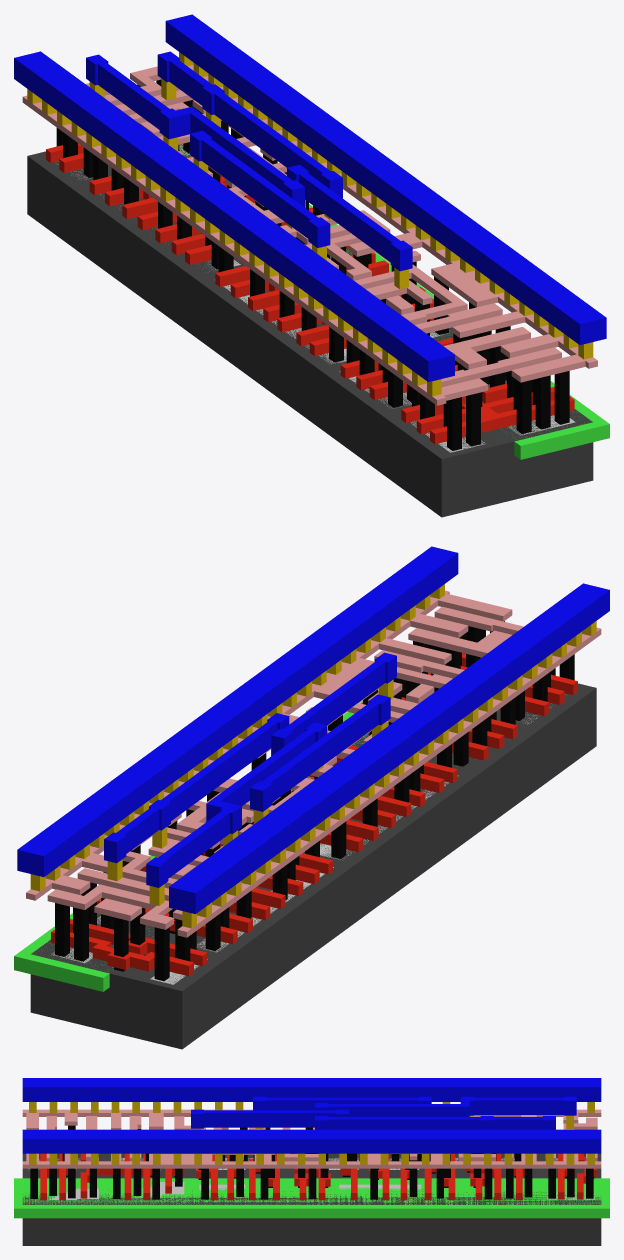
The model's file is sky130_fd_sc_hd__dfbbn_2.obj.
The picture shows the model from 3 angles, top to bottom: view 1: azimuth 30°, elevation 25°; view 2: azimuth 150°, elevation 25°; view 3: azimuth 270°, elevation 25°; orthographic projection. The views are drawn at different scales.
Visible parts, largest first — view 1: metal1, subs, li, licon, poly, mcon, nwell, diff; view 2: metal1, subs, li, licon, poly, mcon, nwell, diff; view 3: metal1, subs, nwell, li, poly, licon, mcon, tap.
Part boxes in pixels (bbox=[...]): metal1: bbox=[14, 14, 606, 381]; subs: bbox=[27, 144, 593, 517]; li: bbox=[22, 65, 597, 405]; licon: bbox=[56, 79, 569, 450]; poly: bbox=[46, 143, 574, 444]; mcon: bbox=[27, 52, 593, 396]; nwell: bbox=[179, 144, 609, 459]; diff: bbox=[57, 164, 485, 452]; metal1: bbox=[17, 546, 609, 913]; subs: bbox=[30, 683, 596, 1049]; li: bbox=[26, 590, 601, 937]; licon: bbox=[55, 621, 574, 981]; poly: bbox=[51, 653, 577, 976]; mcon: bbox=[30, 584, 596, 928]; nwell: bbox=[14, 689, 378, 991]; diff: bbox=[150, 707, 551, 984]; metal1: bbox=[22, 1078, 601, 1153]; subs: bbox=[22, 1153, 601, 1245]; nwell: bbox=[14, 1178, 609, 1218]; li: bbox=[22, 1109, 601, 1168]; poly: bbox=[40, 1153, 596, 1200]; licon: bbox=[30, 1125, 594, 1199]; mcon: bbox=[29, 1102, 594, 1164]; tap: bbox=[47, 1182, 595, 1199].
Bounding box in the file's own units: 3.2 × 2.74 × 13.26.
